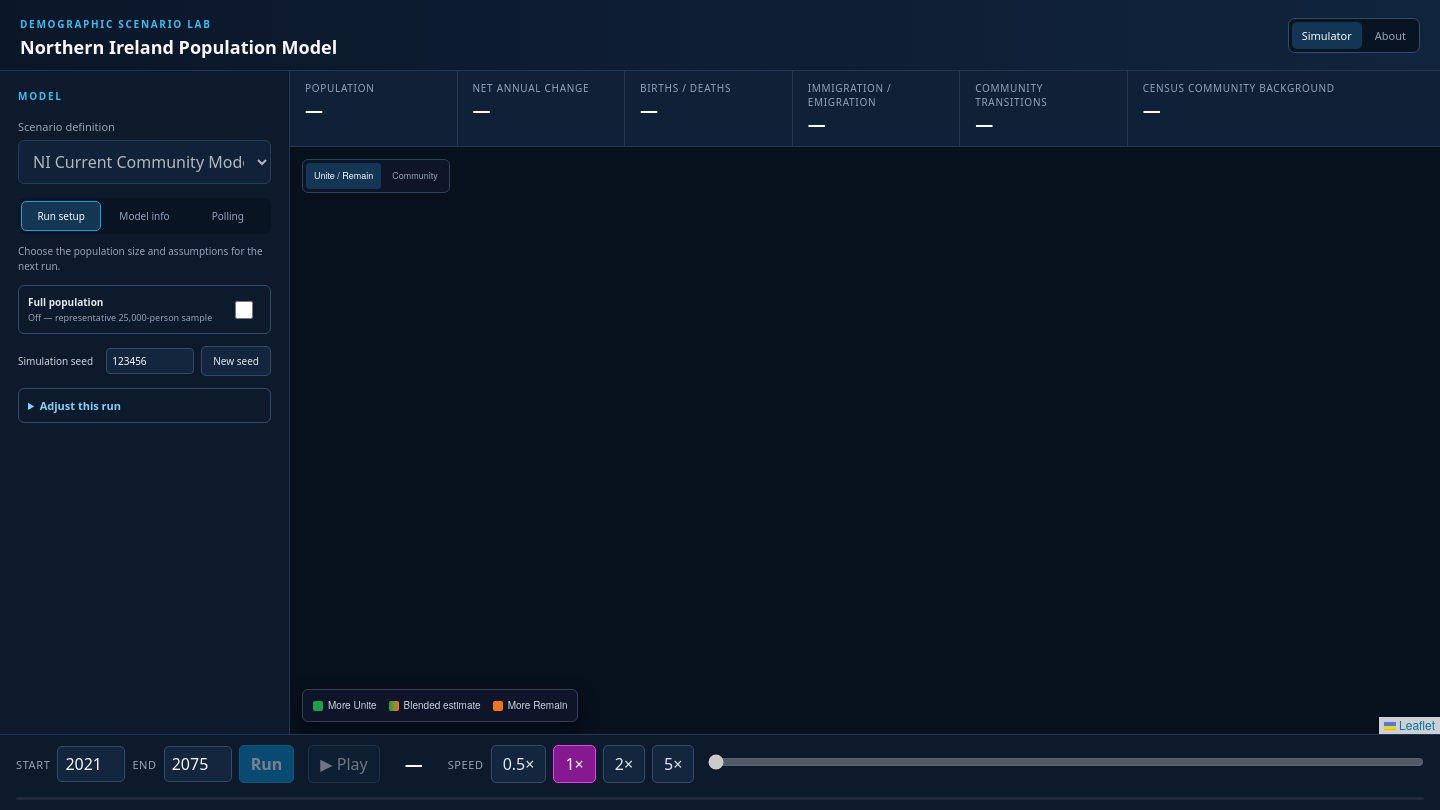
App › starts with an explicit random seed that can be changed or regenerated
Replace the text in the number field labelled "Simulation seed" with "987" at point(150, 361), box 106,348 -> 194,374
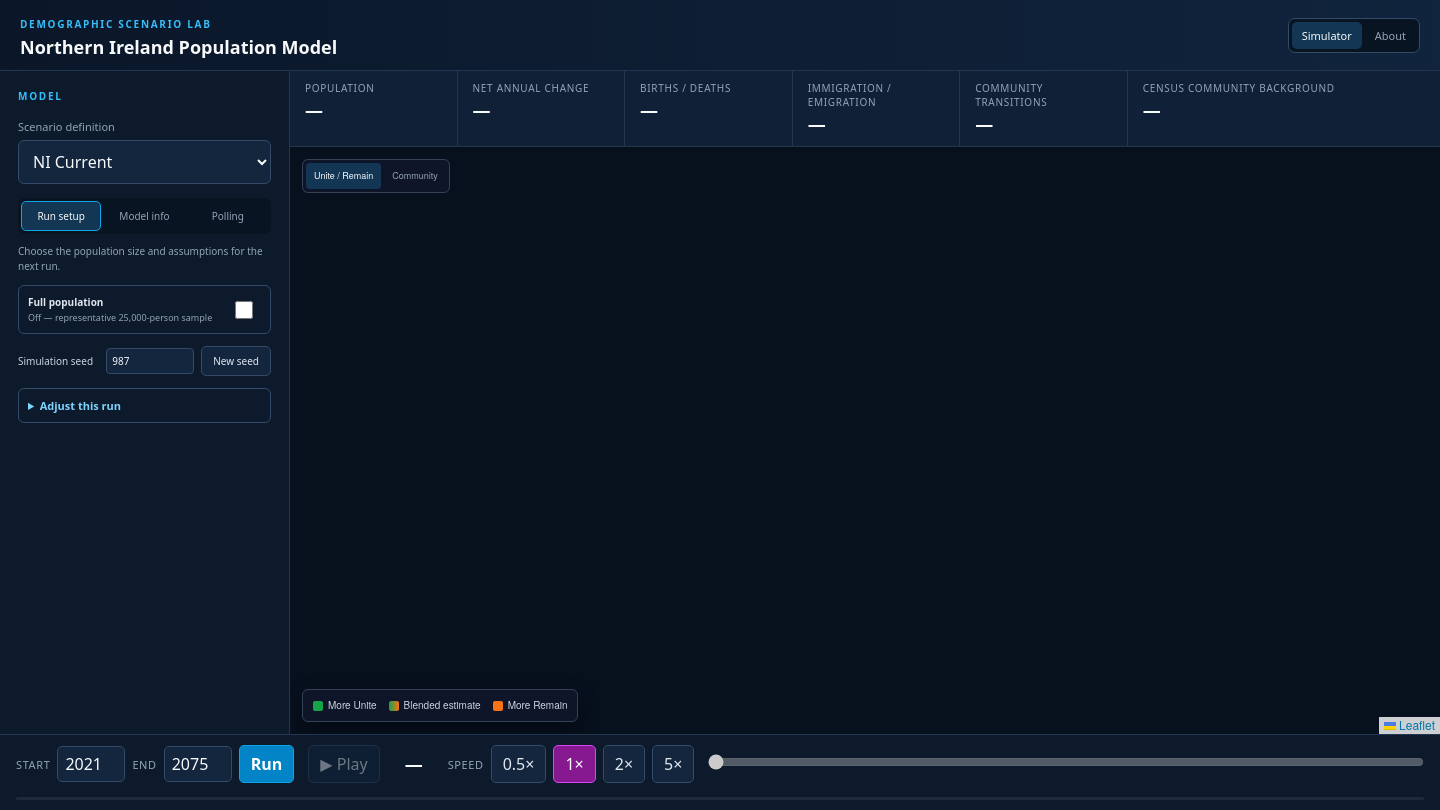
Click the button "New seed".
click(236, 361)  # box 201,346 -> 271,376
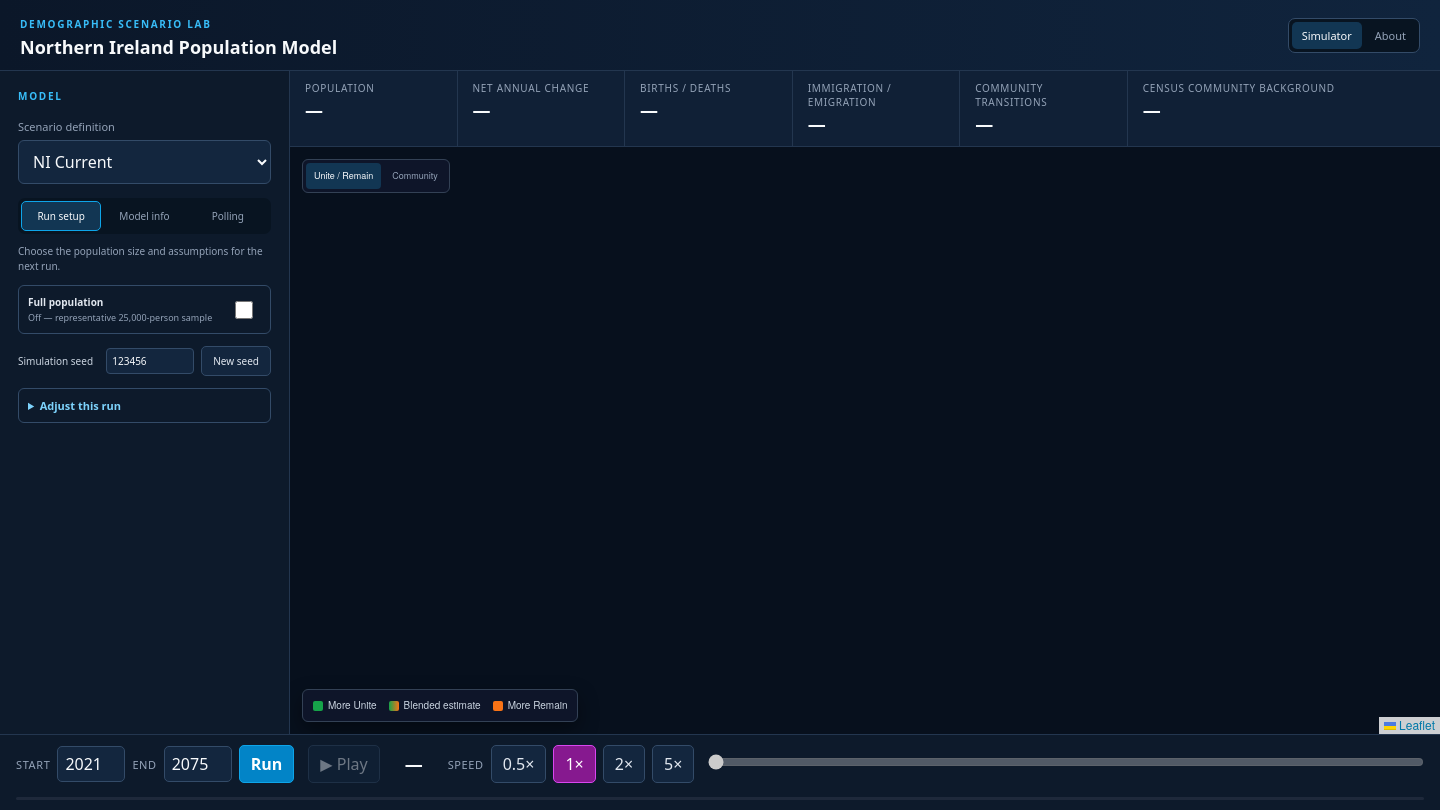
Expected: the number field labelled "Simulation seed" holds "123456", 106,348 -> 194,374
